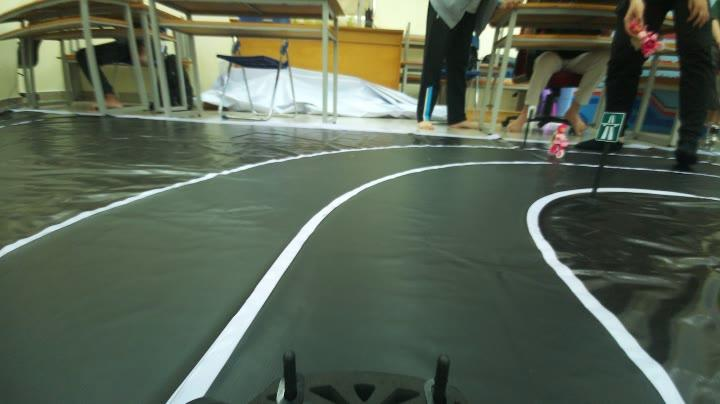highway_entry: (598, 110, 624, 142)
pedestrian: (542, 116, 574, 161)
